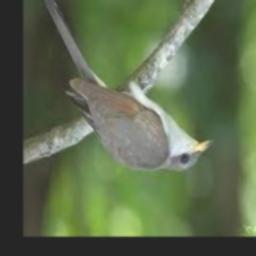Cuckoo: (41, 0, 212, 173)
